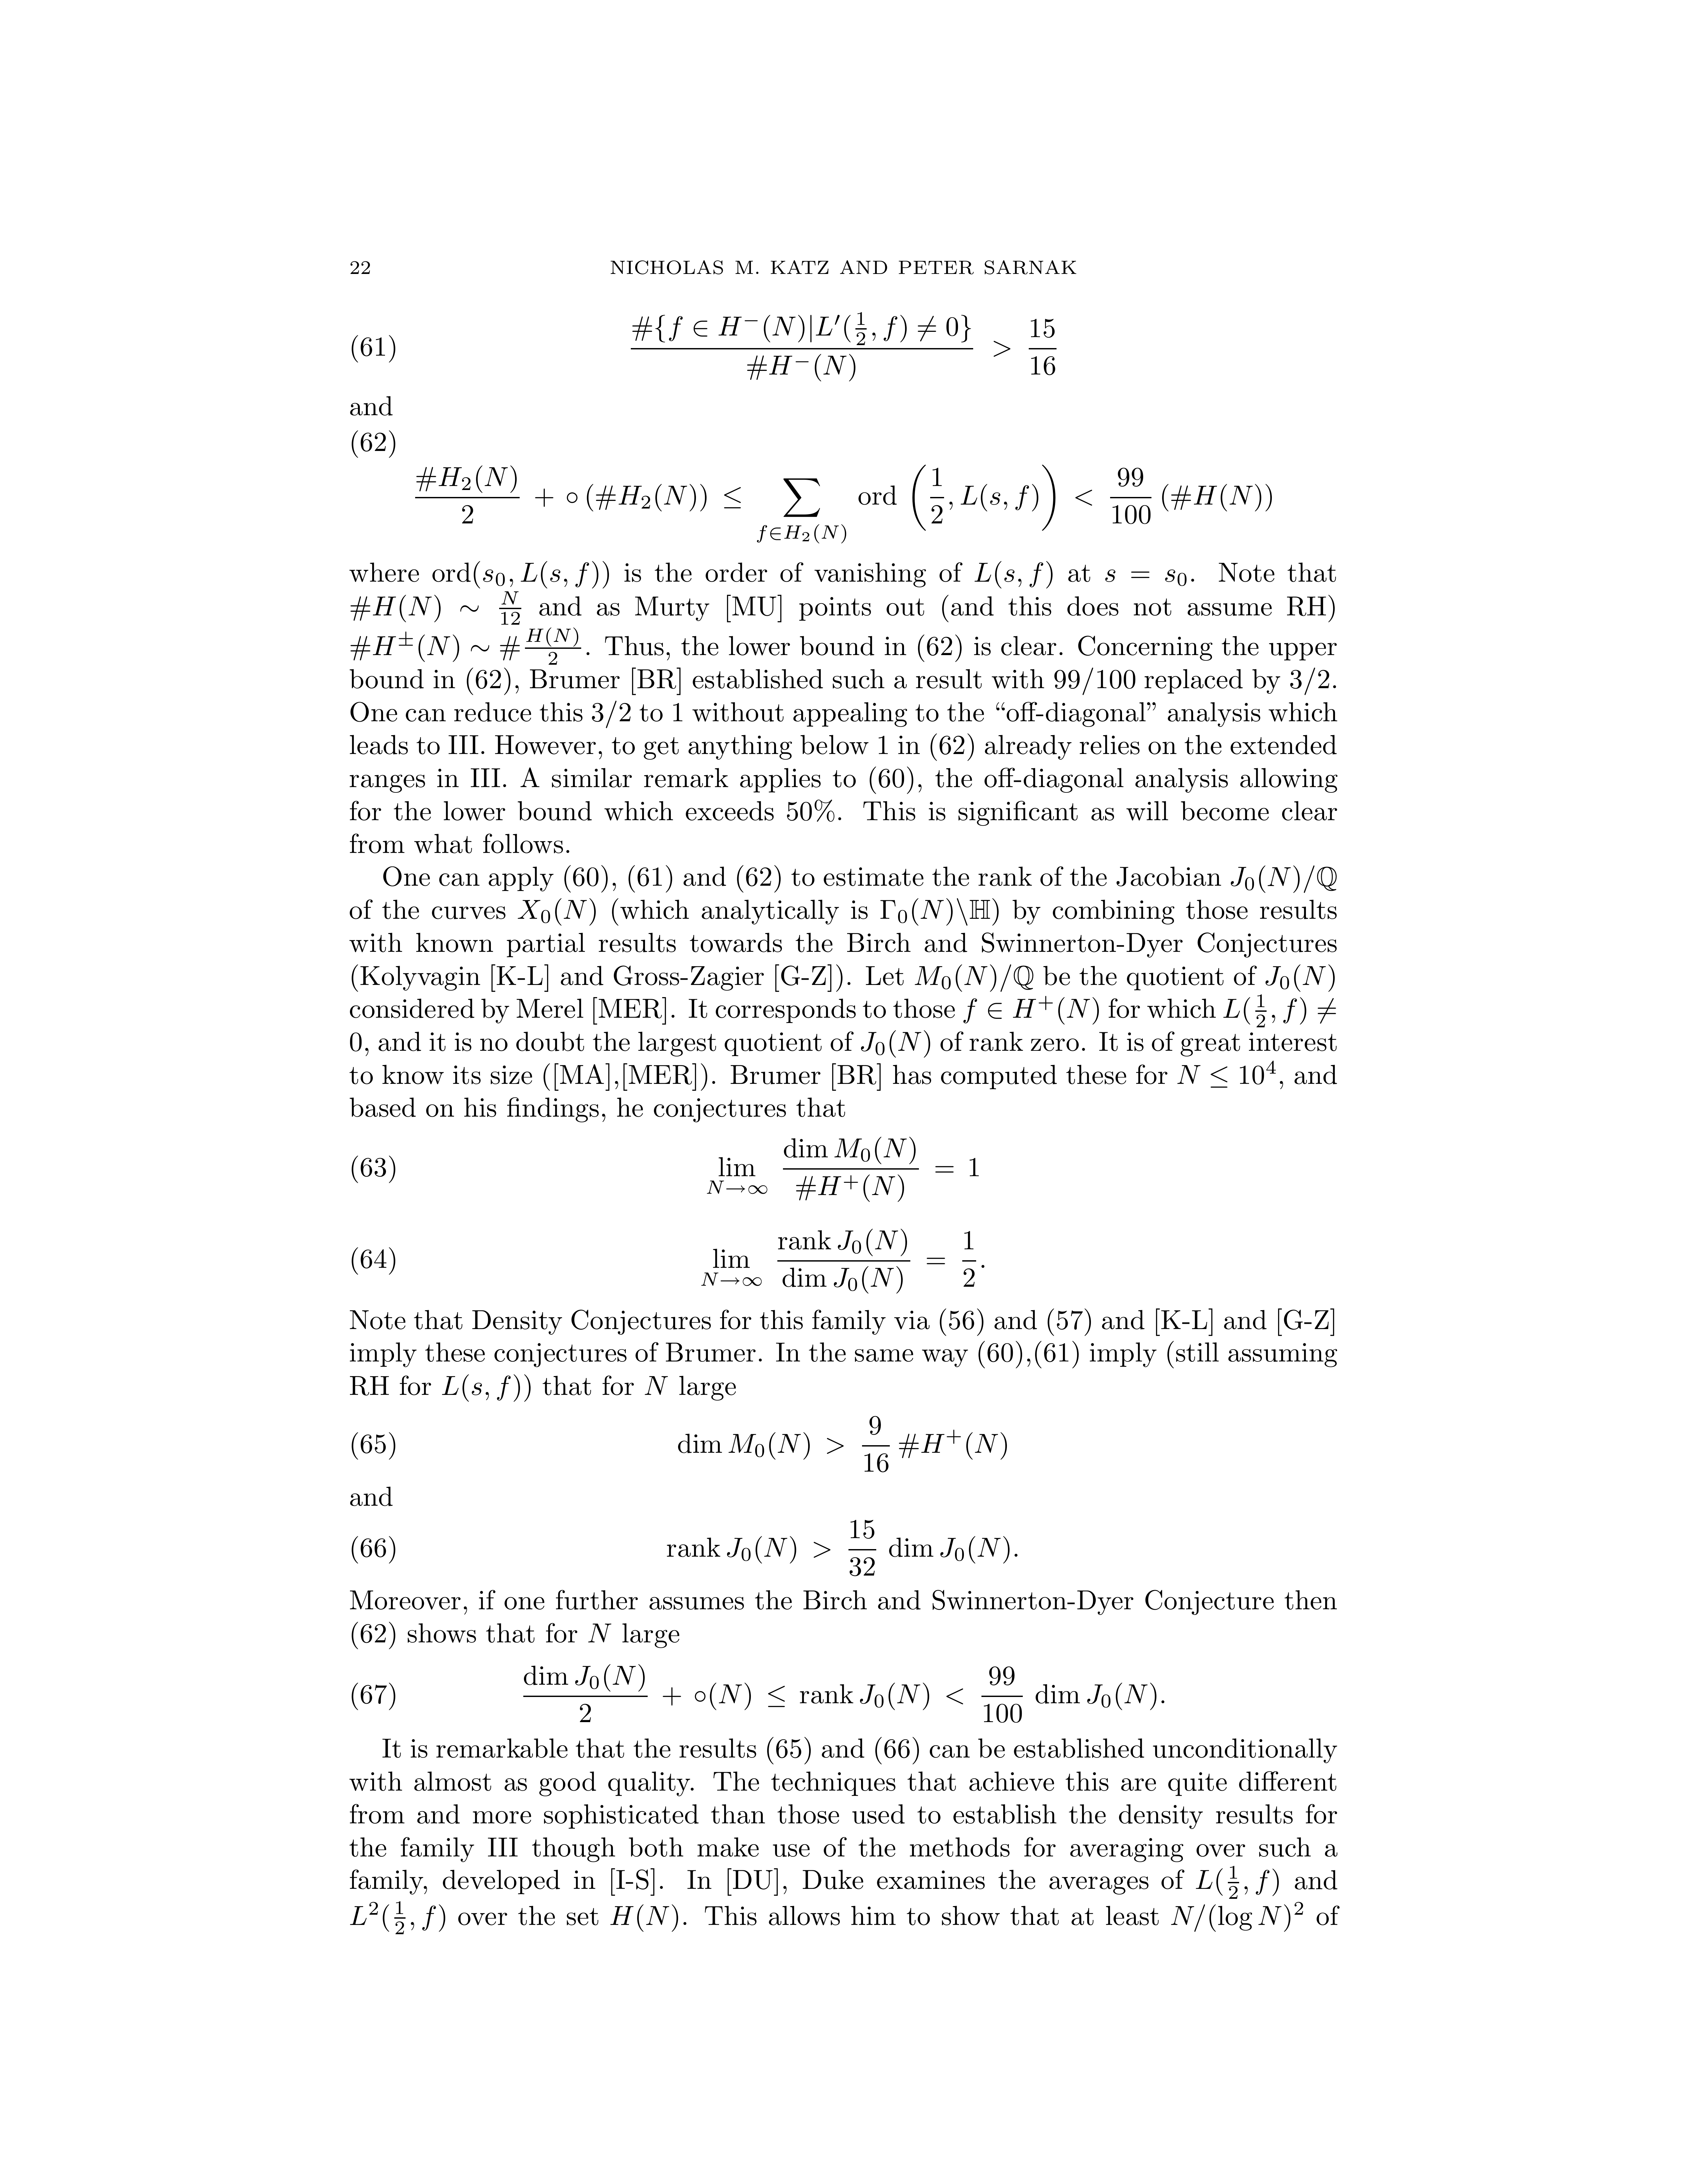maths: (415, 464, 952, 542), (631, 312, 1056, 381), (960, 464, 1272, 530), (799, 1666, 1155, 1723), (702, 1229, 976, 1294), (679, 1416, 1007, 1471), (707, 1136, 978, 1202), (523, 1665, 785, 1721), (351, 628, 581, 665), (351, 592, 521, 624), (666, 1537, 831, 1564), (1171, 1902, 1302, 1932), (964, 996, 1099, 1025), (1223, 994, 1336, 1026), (473, 562, 608, 589), (349, 1900, 445, 1934), (890, 1537, 1010, 1564), (914, 964, 1033, 991), (1232, 865, 1336, 893), (881, 899, 991, 925), (1196, 1865, 1278, 1899), (1177, 1060, 1276, 1087), (441, 1374, 530, 1402), (975, 562, 1053, 589), (517, 899, 595, 925), (610, 1904, 677, 1932), (1265, 964, 1334, 991), (861, 1030, 930, 1057), (849, 1519, 875, 1576), (1106, 569, 1186, 585), (645, 1376, 668, 1395), (588, 1624, 611, 1642), (349, 1032, 362, 1051)
